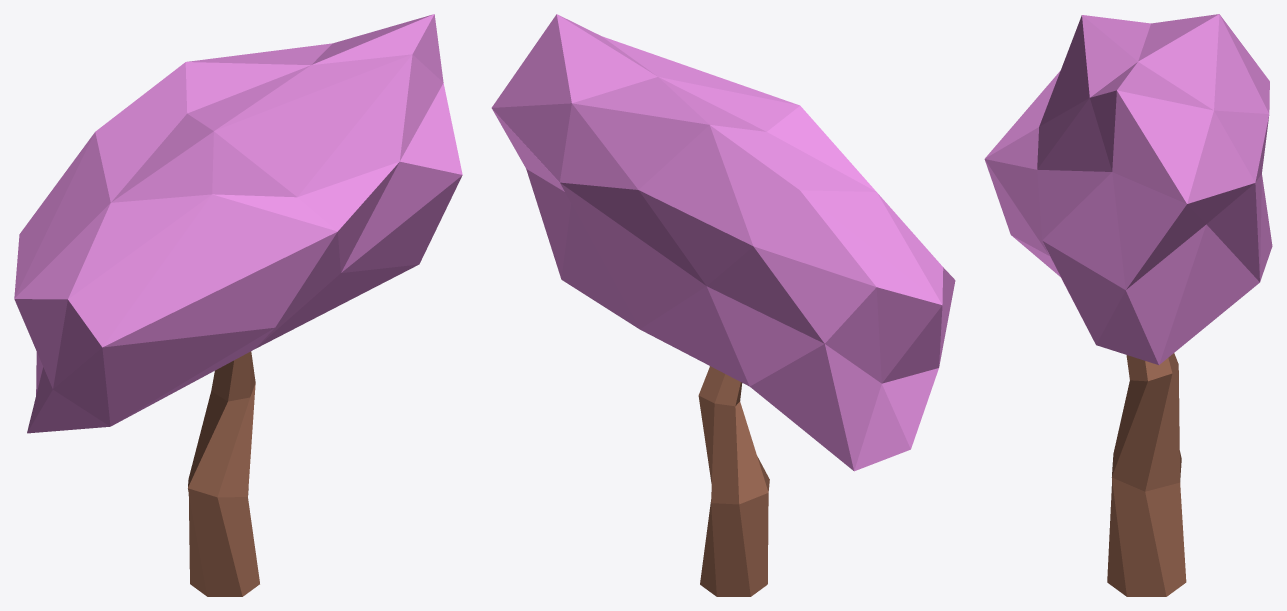
The model's file is sakuraiTree.fbx.
The picture shows the model from 3 angles, left to right: view 1: azimuth 30°, elevation 25°; view 2: azimuth 150°, elevation 25°; view 3: azimuth 270°, elevation 25°; orthographic projection. The views are drawn at different scales.
Visible parts, largest first — view 1: leaves, Trunk; view 2: leaves, Trunk; view 3: leaves, Trunk.
Boxes of the visible parts, <box> form: leaves: <box>14,14,462,433</box>; Trunk: <box>188,351,259,596</box>; leaves: <box>491,14,955,471</box>; Trunk: <box>698,366,769,596</box>; leaves: <box>984,14,1272,364</box>; Trunk: <box>1107,353,1186,596</box>.
Size of the model in its own units: 1467 by 1673 by 728.
